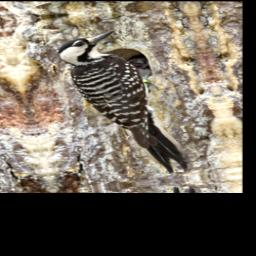Woodpecker: (52, 26, 194, 183)
